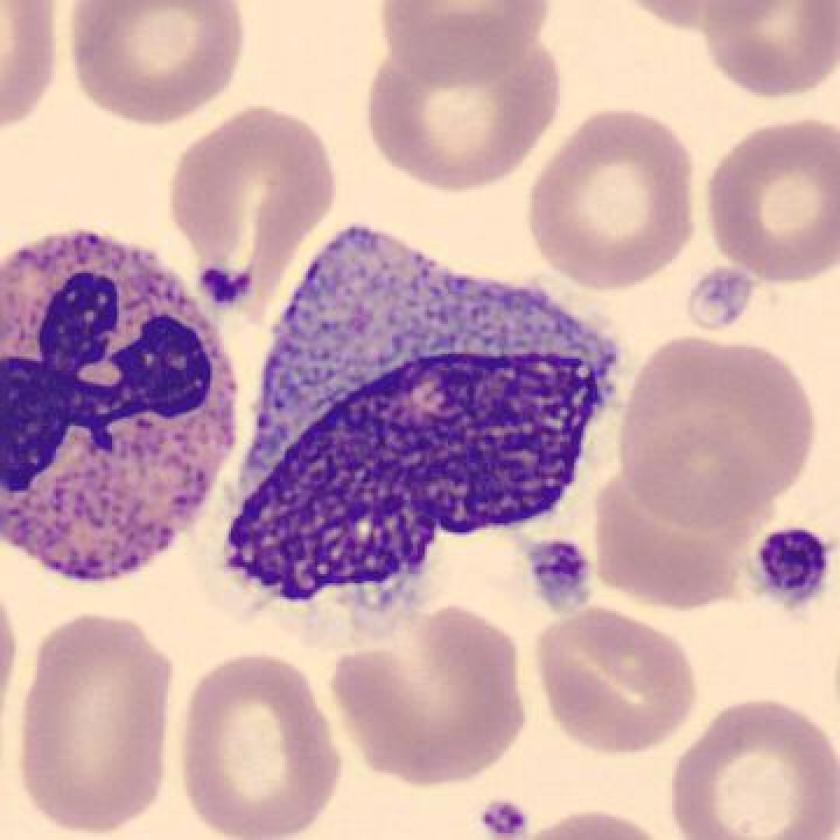monocyte: (214, 212, 634, 631)
